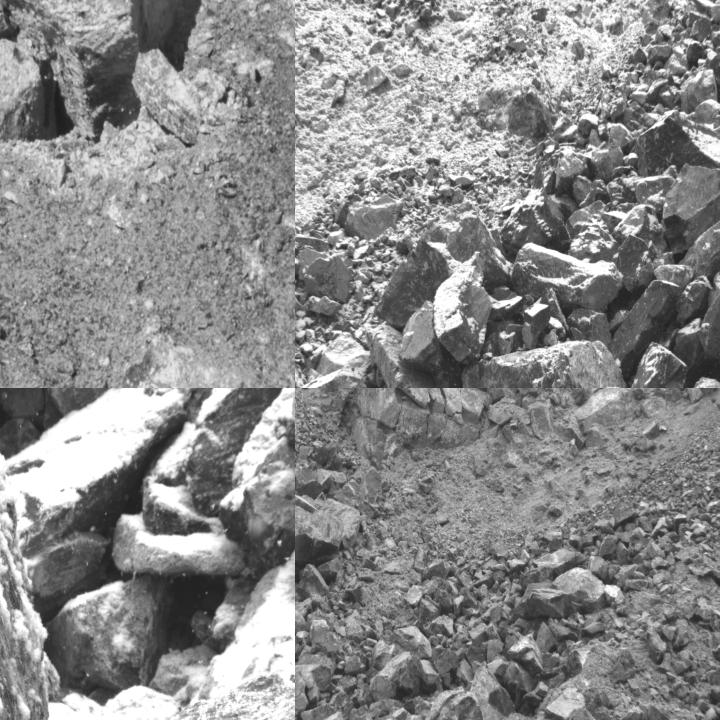stone: (49, 576, 174, 694), (375, 236, 462, 387), (219, 442, 294, 575), (0, 31, 49, 203), (510, 242, 622, 311), (461, 341, 629, 387), (369, 317, 467, 387), (435, 250, 495, 360), (134, 51, 204, 142), (24, 531, 112, 601), (633, 113, 719, 180), (612, 281, 676, 371), (448, 205, 515, 288), (659, 160, 719, 251), (46, 388, 223, 418), (397, 297, 451, 387), (519, 567, 609, 620), (141, 478, 222, 536), (295, 488, 363, 552), (346, 188, 402, 246), (295, 500, 343, 566), (520, 550, 587, 596), (299, 253, 351, 304), (368, 652, 423, 700), (631, 344, 690, 387), (680, 220, 719, 282), (433, 388, 493, 424), (422, 686, 487, 719), (566, 223, 617, 264), (364, 638, 408, 684), (616, 236, 652, 291), (631, 163, 676, 207), (384, 624, 434, 660), (306, 604, 339, 654), (674, 280, 712, 323), (506, 634, 543, 676), (303, 364, 367, 387), (684, 69, 718, 111), (588, 143, 624, 181), (614, 204, 649, 243), (544, 688, 587, 719), (554, 156, 588, 195), (297, 564, 329, 604), (525, 400, 556, 439), (295, 464, 326, 501), (652, 261, 694, 288), (413, 597, 440, 638), (402, 690, 441, 718), (317, 468, 347, 498), (336, 478, 366, 507), (336, 704, 393, 719), (432, 581, 457, 615), (389, 388, 431, 408), (432, 644, 459, 675), (646, 624, 666, 664), (536, 621, 557, 654), (344, 649, 369, 676), (295, 664, 307, 717), (574, 176, 594, 206), (479, 605, 508, 625), (330, 690, 354, 714), (671, 618, 689, 649), (586, 556, 608, 580), (569, 708, 614, 719), (468, 622, 487, 646), (604, 584, 624, 606), (598, 534, 618, 556), (487, 639, 505, 663), (457, 658, 472, 686), (710, 649, 719, 688), (467, 645, 487, 662), (310, 711, 348, 719), (338, 676, 358, 691), (296, 630, 310, 649), (401, 714, 425, 719)
